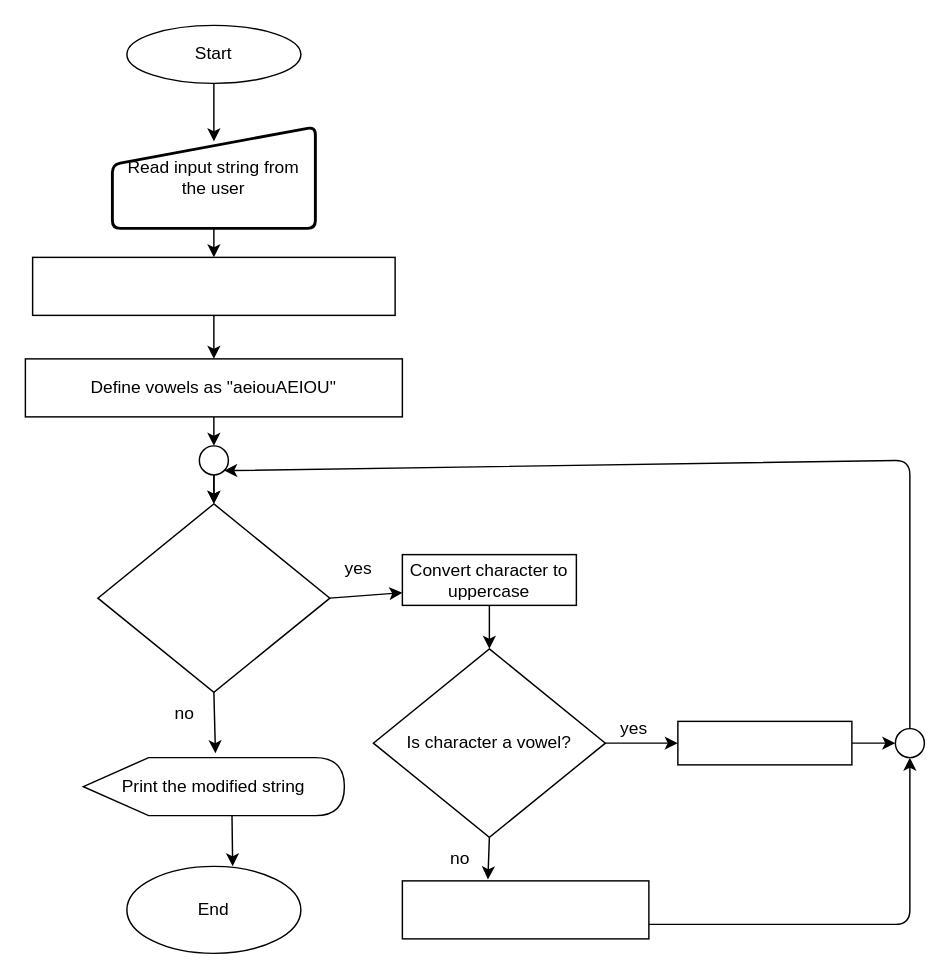
Image size: 950x979. Some labels were removed from this diagram. Here are the shapes that lost their labels. From the top down, the centre of each, then its label:
At (213,285): "Initialize an empty string fot the result".
At (213,597): "More characters in string?".
At (764,742): "Add an asterisk to the result".
At (525,909): "Add the uppercase character to result".
